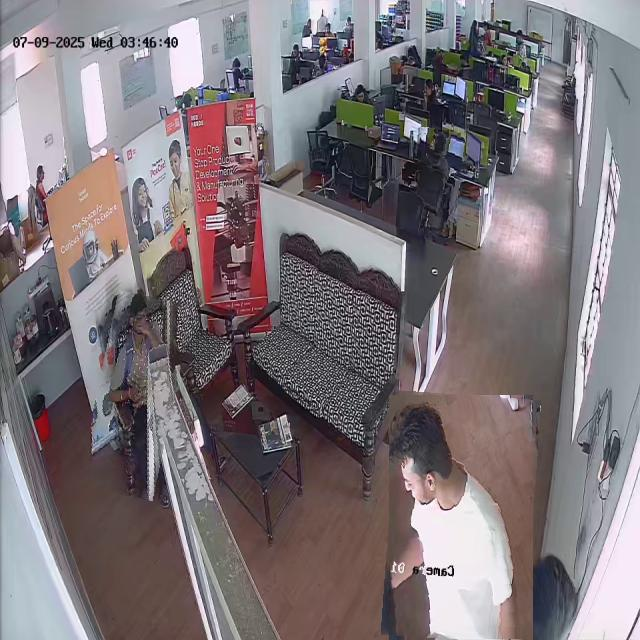person: (385, 392, 537, 640), (87, 293, 184, 498), (408, 128, 462, 237), (31, 166, 59, 217)
